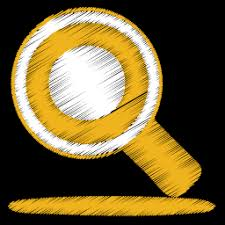searchIcon: (10, 4, 202, 197)
